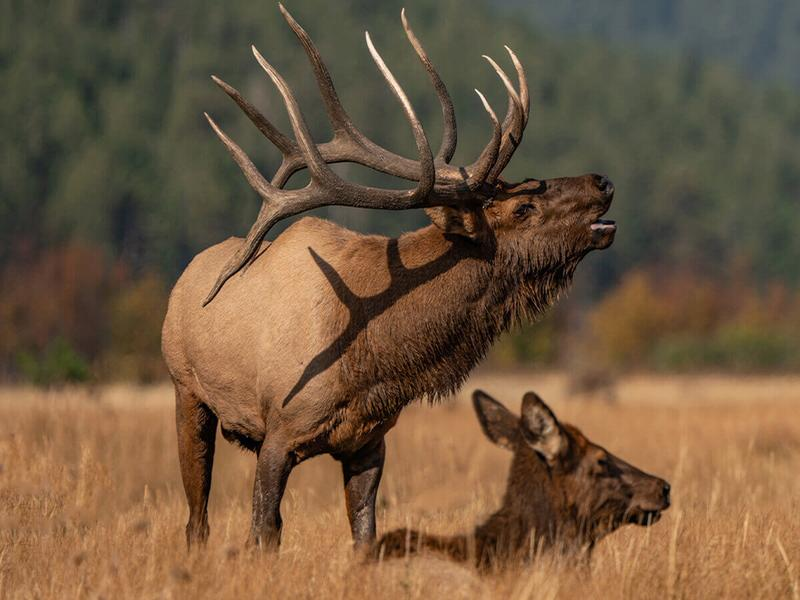elk: (157, 7, 622, 566), (352, 389, 673, 569)
